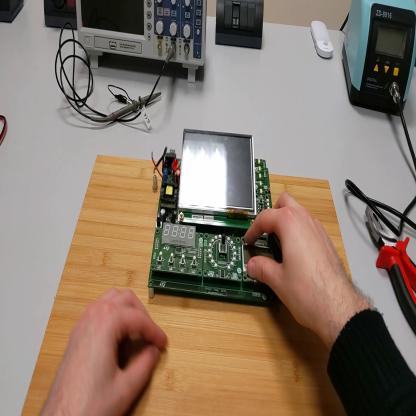hand: (41, 291, 170, 414), (245, 188, 347, 335)
low voltage board: (148, 130, 281, 303)
oscilloscope: (77, 1, 209, 84)
oscilloscope probe tip: (103, 94, 162, 129)
pliers: (367, 204, 416, 335)
socket: (45, 1, 77, 33), (2, 1, 26, 25)
welder station: (343, 2, 416, 119)
working area: (25, 156, 350, 414)
